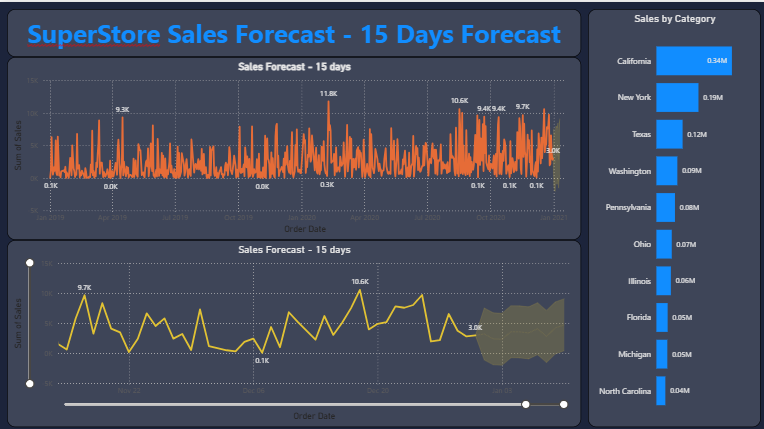

The dashboard page shown, as its layout file describes it:
{"tool":"powerbi","page":{"name":"Page 2","canvas":[1280,720],"ordinal":1},"visuals":[{"type":"lineChart","title":"Sales Forecast - 15 days","fields":{"Y":["Sum(SuperStore_Sales_Dataset (2).Sales)"],"Category":["SuperStore_Sales_Dataset (2).Order Date"]},"box":[13.3,91.7,956.7,305],"z":0},{"type":"lineChart","title":"Sales Forecast - 15 days","fields":{"Y":["Sum(SuperStore_Sales_Dataset (2).Sales)"],"Category":["SuperStore_Sales_Dataset (2).Order Date"]},"box":[13.3,396.7,956.7,311.7],"z":1000},{"type":"textbox","box":[13.3,11.7,956.7,80],"z":2000},{"type":"clusteredBarChart","title":"Sales by Category","fields":{"Y":["Sum(SuperStore_Sales_Dataset (2).Sales)"],"Category":["SuperStore_Sales_Dataset (2).State"]},"box":[981.7,11.7,288.3,696.7],"z":3000}]}

Visuals, with their boxes in screenshot pixels (x1, y1, x2, y2), scaled from the page's 1280x720 canvas onto the 764x429 screenshot:
"Sales Forecast - 15 days" lineChart: select_region(8, 55, 579, 236)
"Sales Forecast - 15 days" lineChart: select_region(8, 236, 579, 422)
textbox: select_region(8, 7, 579, 55)
"Sales by Category" clusteredBarChart: select_region(586, 7, 758, 422)
